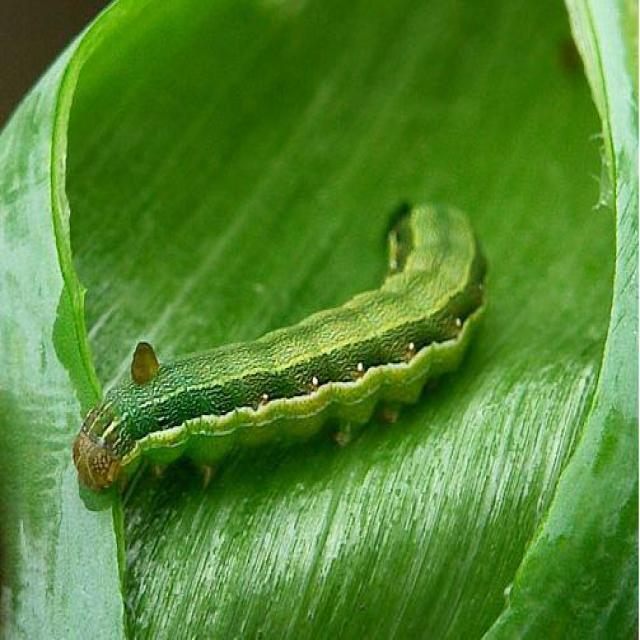BeetArmyWorm-Larva-: (71, 195, 492, 495)
